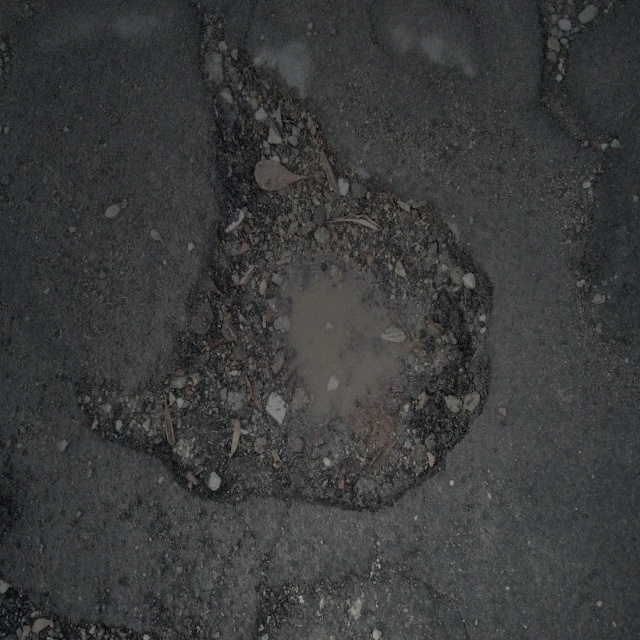pothole: (150, 19, 490, 516)
